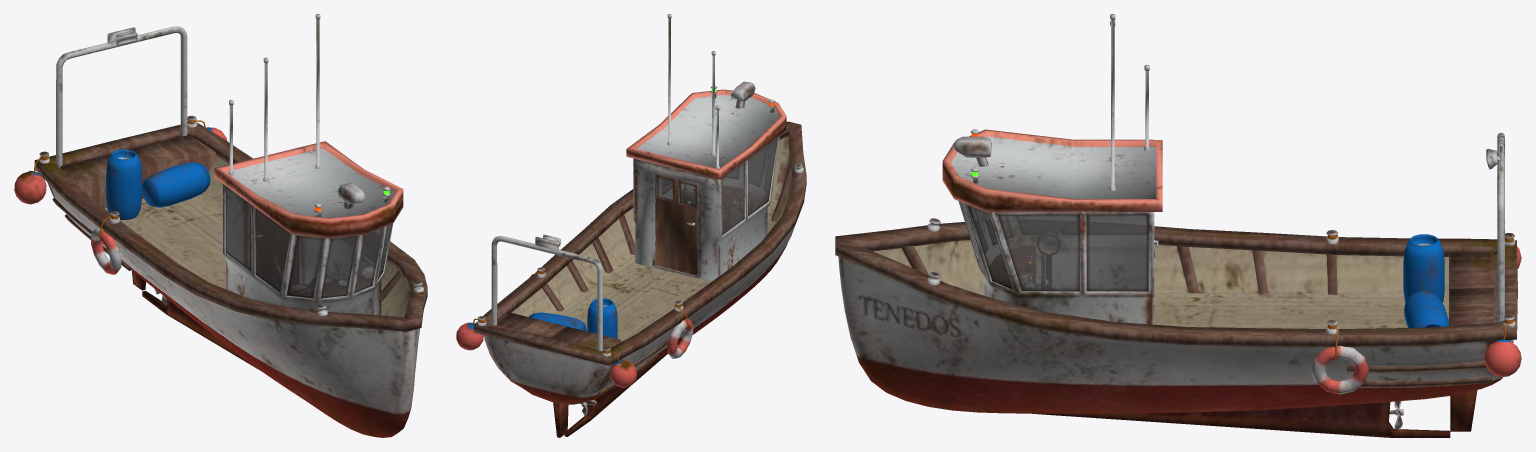
File: fisher_boat.glb
3 views of the same model, side by side, from view 1: azimuth 30°, elevation 25°; view 2: azimuth 150°, elevation 25°; view 3: azimuth 270°, elevation 25° (orthographic). The views are drawn at different scales.
Visible parts, largest first — view 1: Cube.022; view 2: Cube.022; view 3: Cube.022.
Boxes of the visible parts, x1,y1,x2,y2 form: Cube.022: [14, 14, 427, 437]; Cube.022: [456, 14, 806, 437]; Cube.022: [835, 14, 1521, 437].
Size of the model in its own units: 185 by 323 by 460.
Materials: 7 (5 with a texture image).
